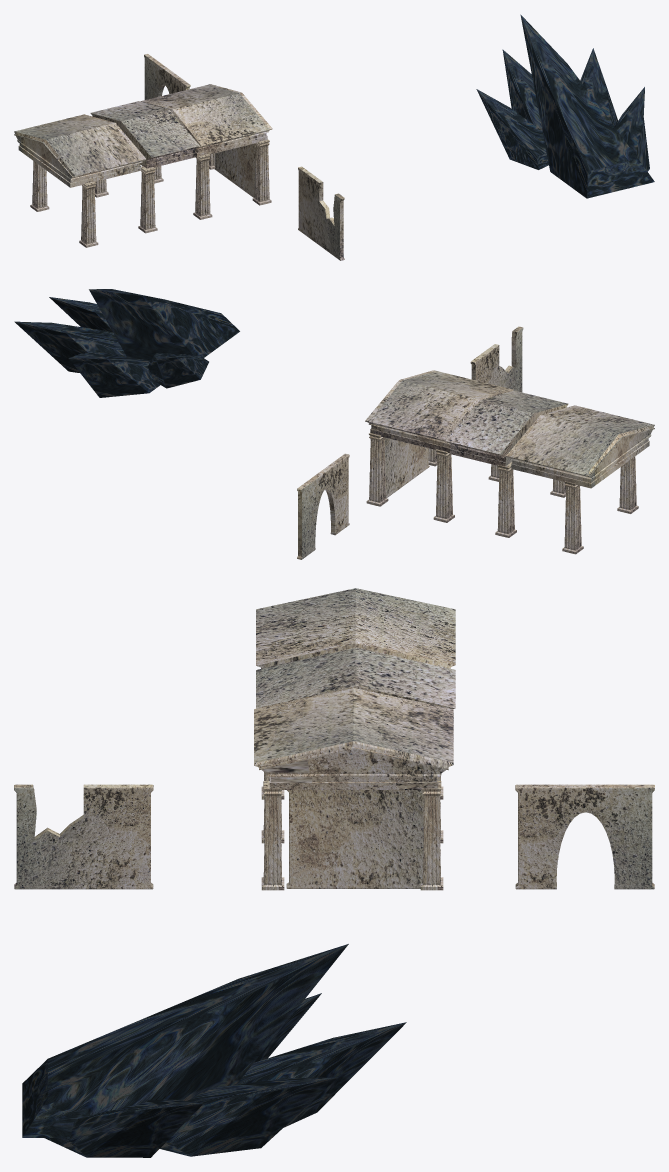
Rendered from Ruins_and_Rocks.fbx.
3 views of the same model, one above another, from view 1: azimuth 30°, elevation 25°; view 2: azimuth 150°, elevation 25°; view 3: azimuth 270°, elevation 25° (orthographic). The views are drawn at different scales.
Parts seen in each view (by area): view 1: Cube.004, Ruin_Roof, Ruins_Top, Ruins_Mid, pillars.001, Wall_Broken, Cube.003, Cube.005, Wall_Normal, Cube.006, Wall_With_Open_Door, Cube.002 (+1 smaller); view 2: Ruin_Roof, Cube.004, Ruins_Top, Ruins_Mid, pillars, Wall_With_Open_Door, Cube.005, Cube.002, Wall_Broken, Wall_Normal, Cube.003, pillars.001 (+1 smaller); view 3: Cube.004, Ruins_Top, Wall_Normal, Wall_Broken, Ruin_Roof, Wall_With_Open_Door, Ruins_Mid, Cube.002, Cube.006, Cube.005, pillars.001, pillars.
Part boxes in pixels (<box>): Cube.004: <box>520,14,654,198</box>; Ruin_Roof: <box>14,114,145,187</box>; Ruins_Top: <box>140,84,272,157</box>; Ruins_Mid: <box>90,101,199,168</box>; pillars.001: <box>79,139,271,247</box>; Wall_Broken: <box>298,166,344,260</box>; Cube.003: <box>476,89,548,169</box>; Cube.005: <box>502,49,542,130</box>; Wall_Normal: <box>214,143,255,197</box>; Cube.006: <box>614,87,649,171</box>; Wall_With_Open_Door: <box>144,54,190,99</box>; Cube.002: <box>580,48,617,126</box>; Ruin_Roof: <box>506,405,654,488</box>; Cube.004: <box>89,289,239,360</box>; Ruins_Top: <box>365,370,513,453</box>; Ruins_Mid: <box>445,390,568,466</box>; pillars: <box>366,433,583,554</box>; Wall_With_Open_Door: <box>297,453,349,559</box>; Cube.005: <box>68,352,160,397</box>; Cube.002: <box>14,321,125,372</box>; Wall_Broken: <box>470,326,523,392</box>; Wall_Normal: <box>384,437,429,498</box>; Cube.003: <box>148,353,208,388</box>; pillars.001: <box>428,448,638,513</box>; Cube.004: <box>22,944,348,1137</box>; Ruins_Top: <box>254,688,453,789</box>; Wall_Normal: <box>286,790,423,888</box>; Wall_Broken: <box>14,784,153,889</box>; Ruin_Roof: <box>256,588,455,668</box>; Wall_With_Open_Door: <box>515,784,654,889</box>; Ruins_Mid: <box>256,647,455,708</box>; Cube.002: <box>160,1077,337,1156</box>; Cube.006: <box>44,1099,203,1157</box>; Cube.005: <box>234,1022,406,1127</box>; pillars.001: <box>261,772,284,890</box>; pillars: <box>420,776,443,890</box>.
Bounding box in the file's own units: 13555 × 2508 × 8322.
